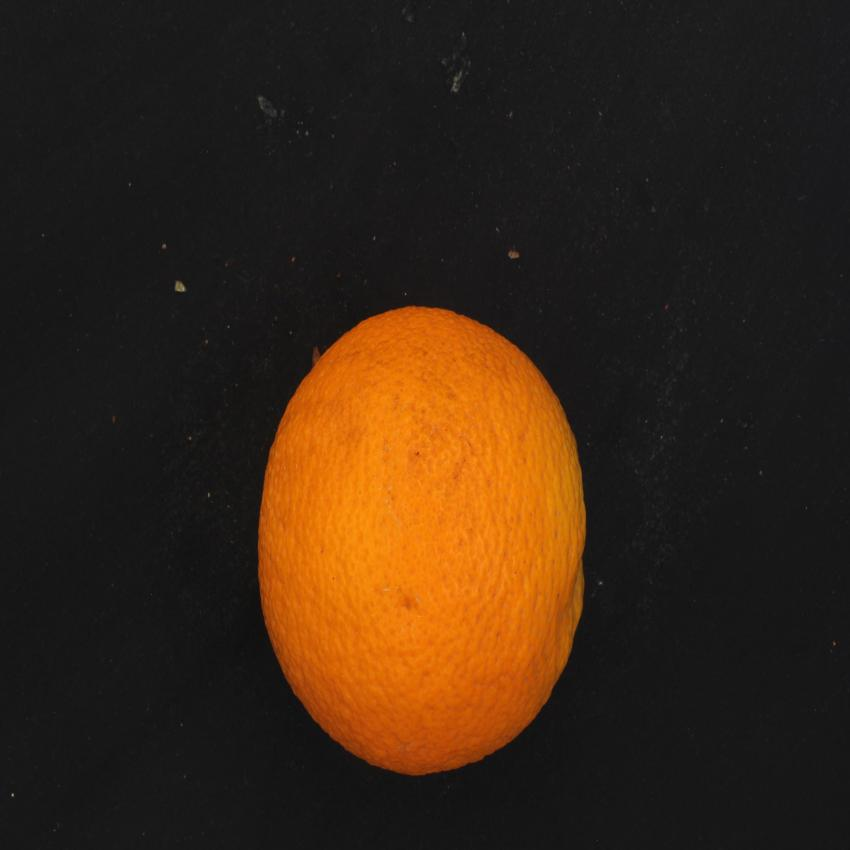Buen estado: (249, 296, 601, 789)
